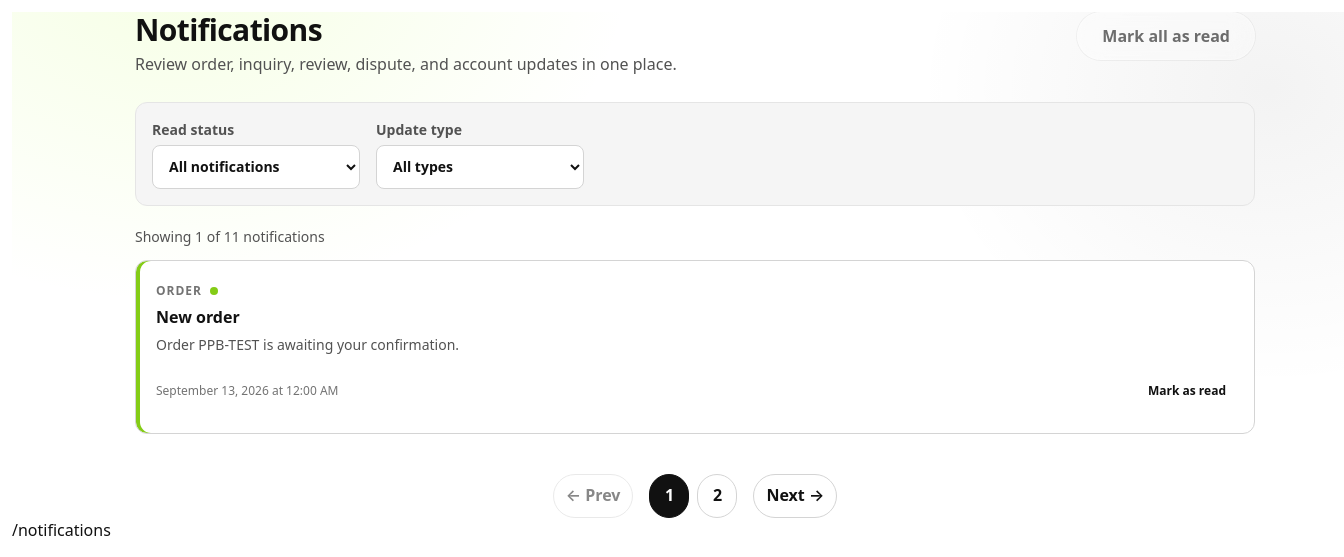
Test case: NotificationsPage › renders a paginated result and trusted notification rows
Expected: the text "Showing 1 of 11 notifications" is shown, top-left (135, 227), bottom-right (325, 246)
Click the button with aria-label "Next page". click: (795, 496)
box: top-left (754, 474), bottom-right (837, 518)
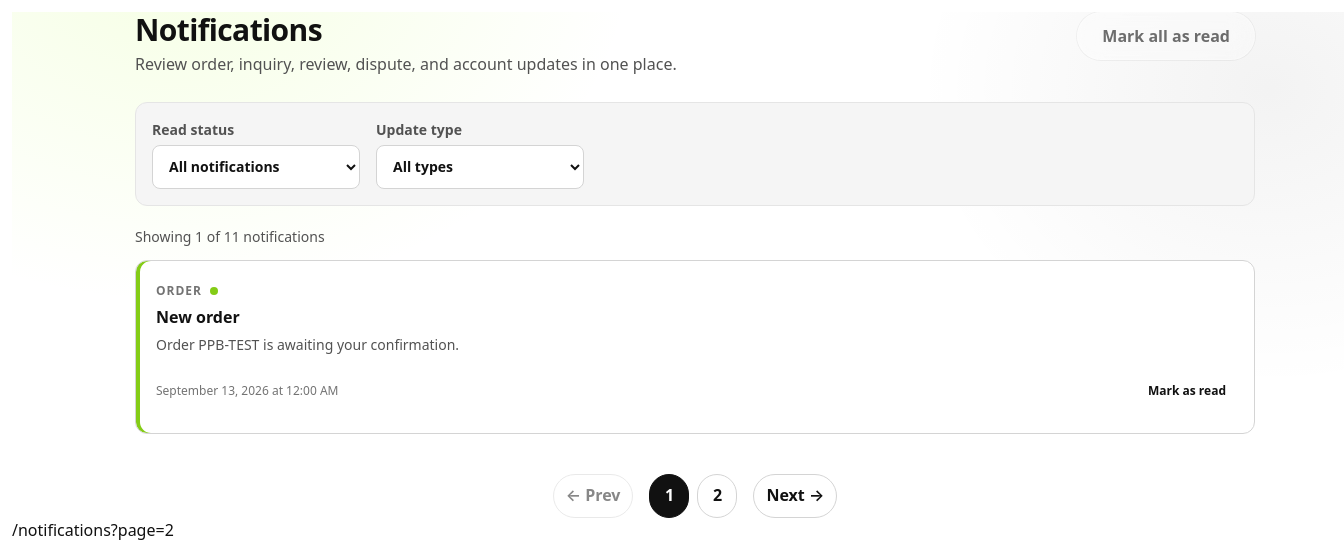
Result: the text named "location" reads "/notifications?page=2" at top-left (12, 518), bottom-right (174, 540)
